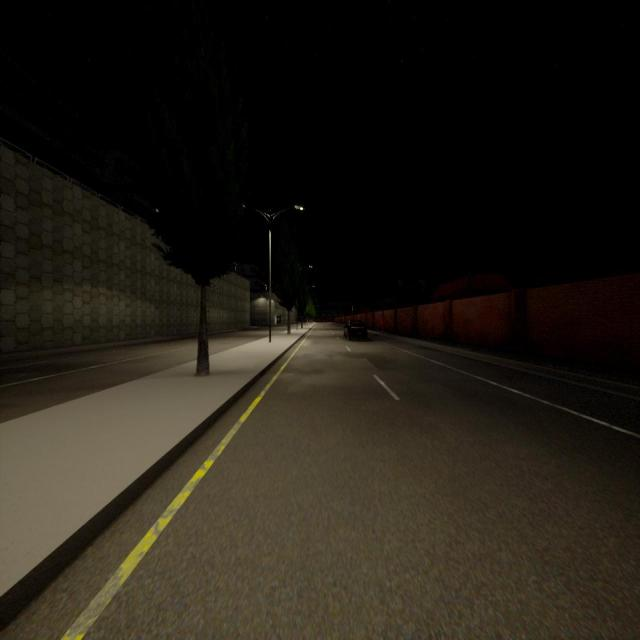Vehicle: (344, 320, 367, 340)
